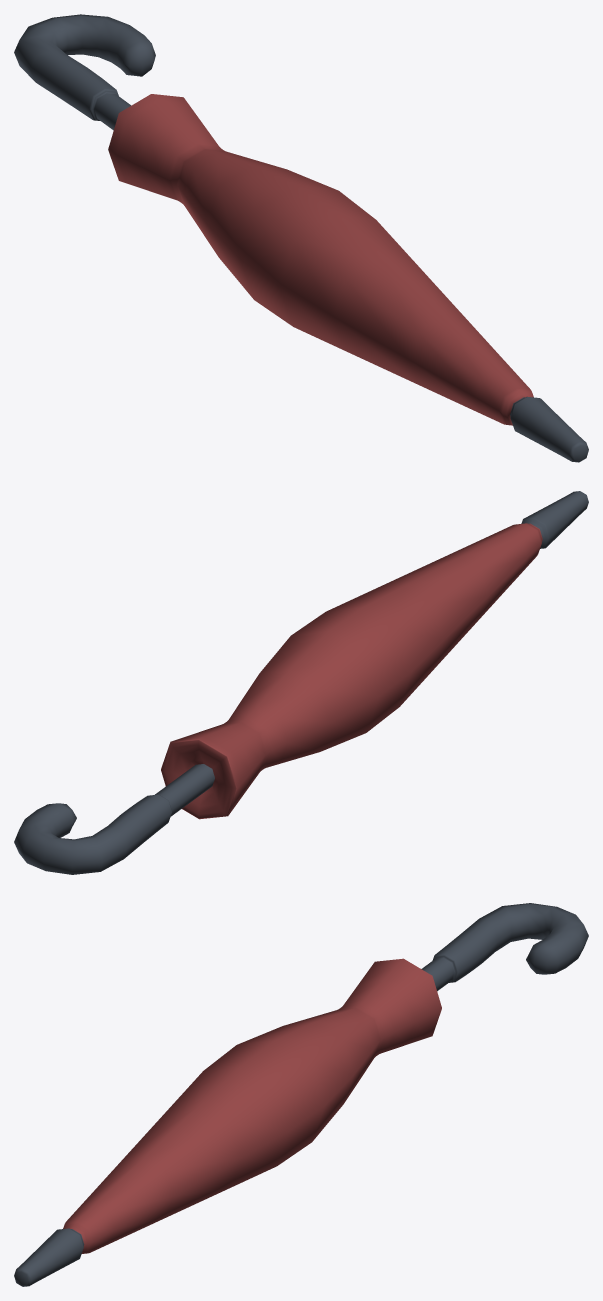
File: Umbrella.fbx
3 views of the same model, one above another, from view 1: azimuth 30°, elevation 25°; view 2: azimuth 150°, elevation 25°; view 3: azimuth 330°, elevation 25° (orthographic). The views are drawn at different scales.
Parts seen in each view (by area): view 1: Umbrella; view 2: Umbrella; view 3: Umbrella.
Part boxes in pixels (x1=…): Umbrella: x1=14, y1=14, x2=588, y2=462; Umbrella: x1=14, y1=491, x2=588, y2=874; Umbrella: x1=14, y1=903, x2=588, y2=1286.
Size of the model in its own units: 11.27 by 8.58 by 74.67.
